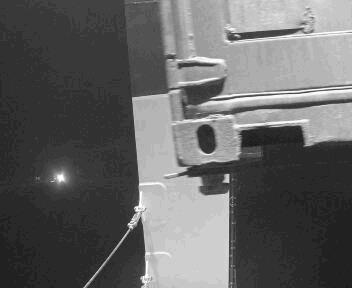twist_lock_1: (162, 157, 225, 199)
